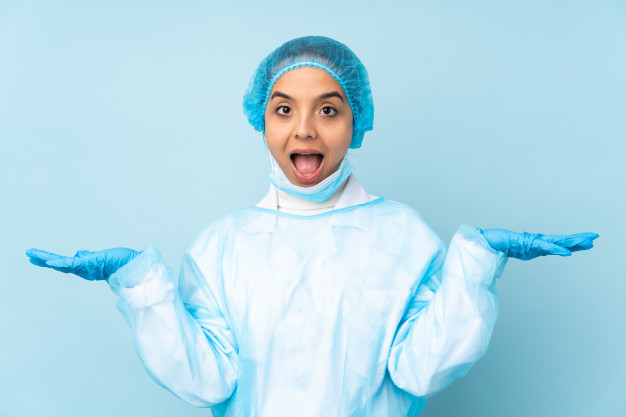mask_weared_incorrect: (260, 75, 353, 206)
